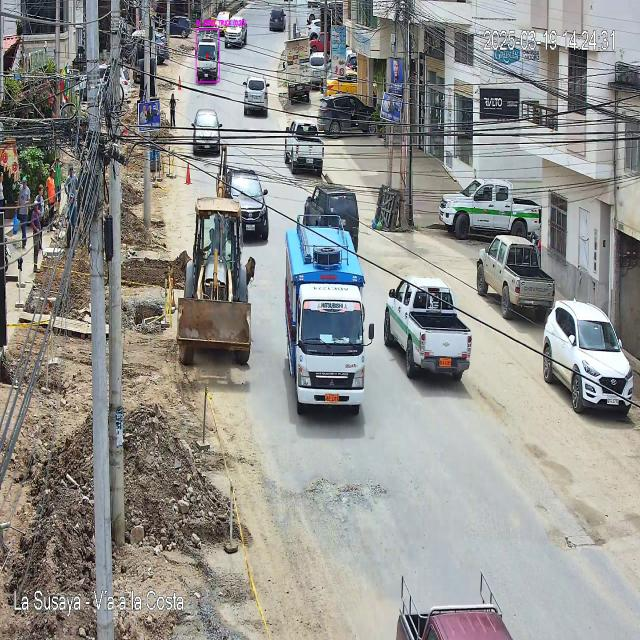CMT: (383, 280, 472, 382), (283, 118, 321, 175)
TRUCK: (285, 224, 365, 416)
